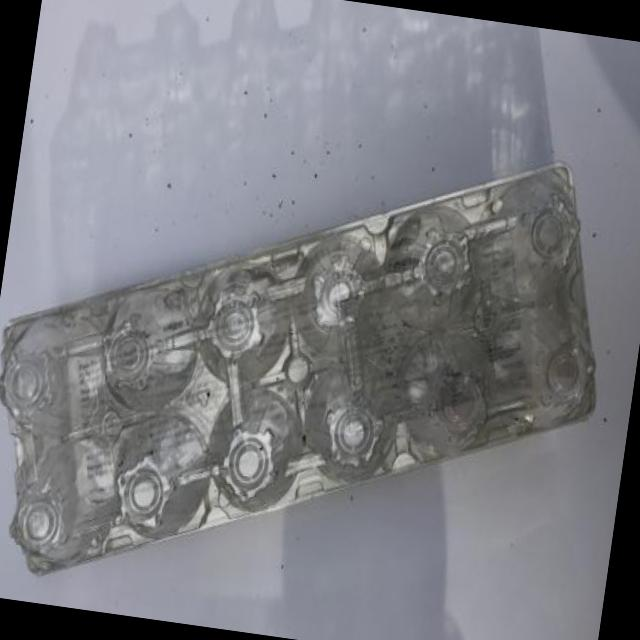Recycle: (0, 86, 630, 640)
